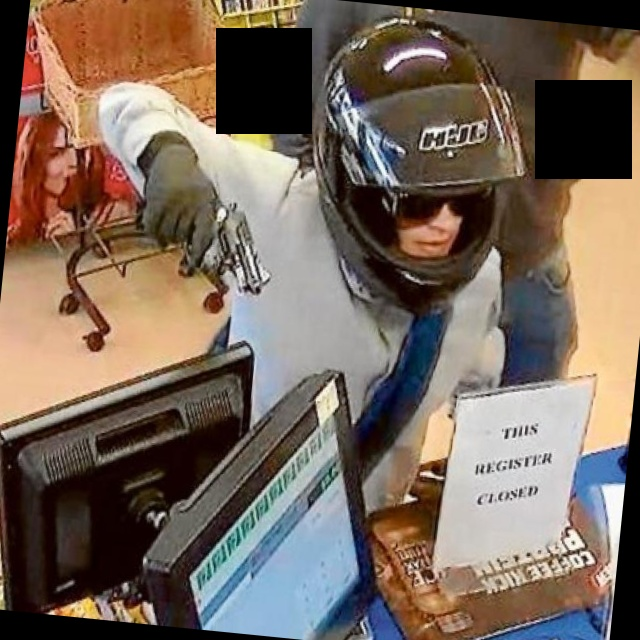gun: (159, 180, 288, 304)
